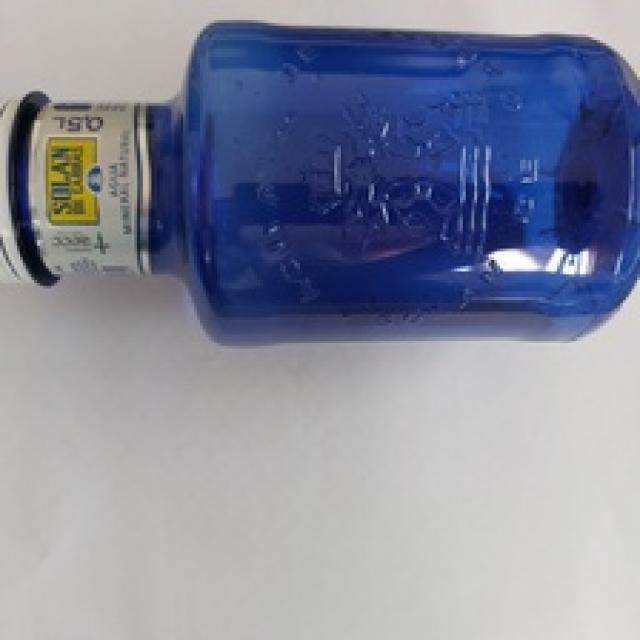Plastic: (0, 20, 640, 332)
